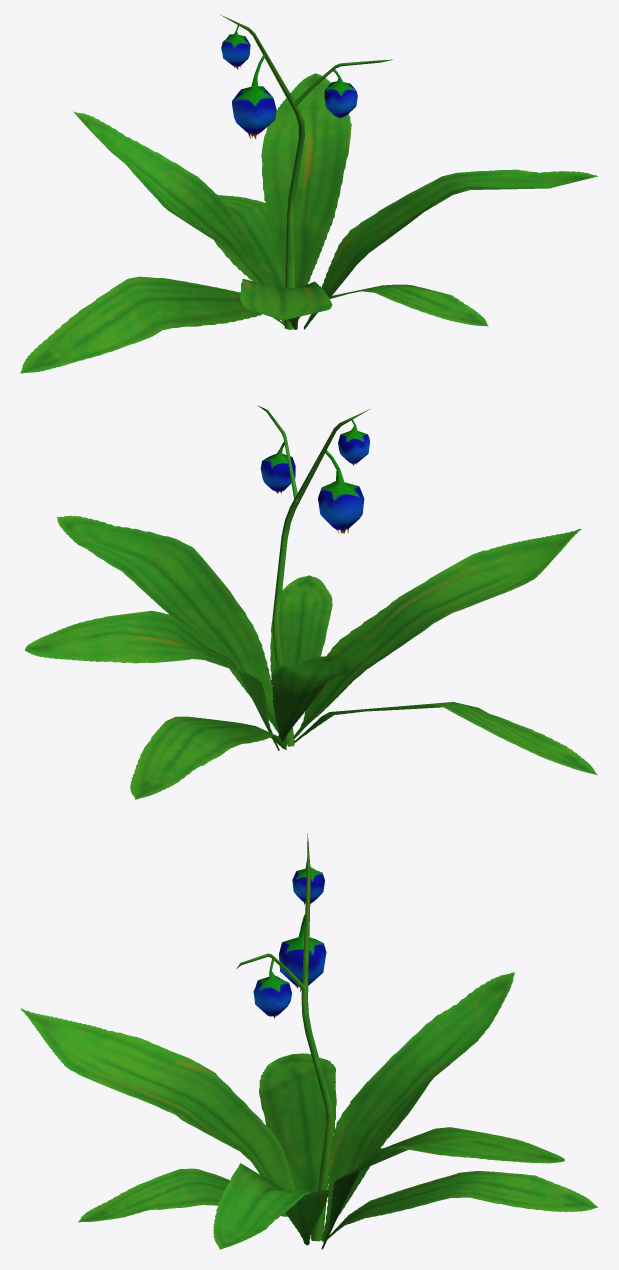
The model's file is berry-3.glb.
3 renders of one model, top to bottom at view 1: azimuth 30°, elevation 25°; view 2: azimuth 150°, elevation 25°; view 3: azimuth 270°, elevation 25°, orthographic. The views are drawn at different scales.
Parts seen in each view (by area): view 1: Plant_berries_Berry_plant_0; view 2: Plant_berries_Berry_plant_0; view 3: Plant_berries_Berry_plant_0.
Part boxes in pixels (x1,y1,x2,y2): Plant_berries_Berry_plant_0: (20, 15, 598, 373); Plant_berries_Berry_plant_0: (25, 405, 597, 799); Plant_berries_Berry_plant_0: (20, 833, 598, 1249).
Bounding box in the file's own units: 1.14 × 0.6781 × 0.9527.
Materials: 1 (1 with a texture image).
